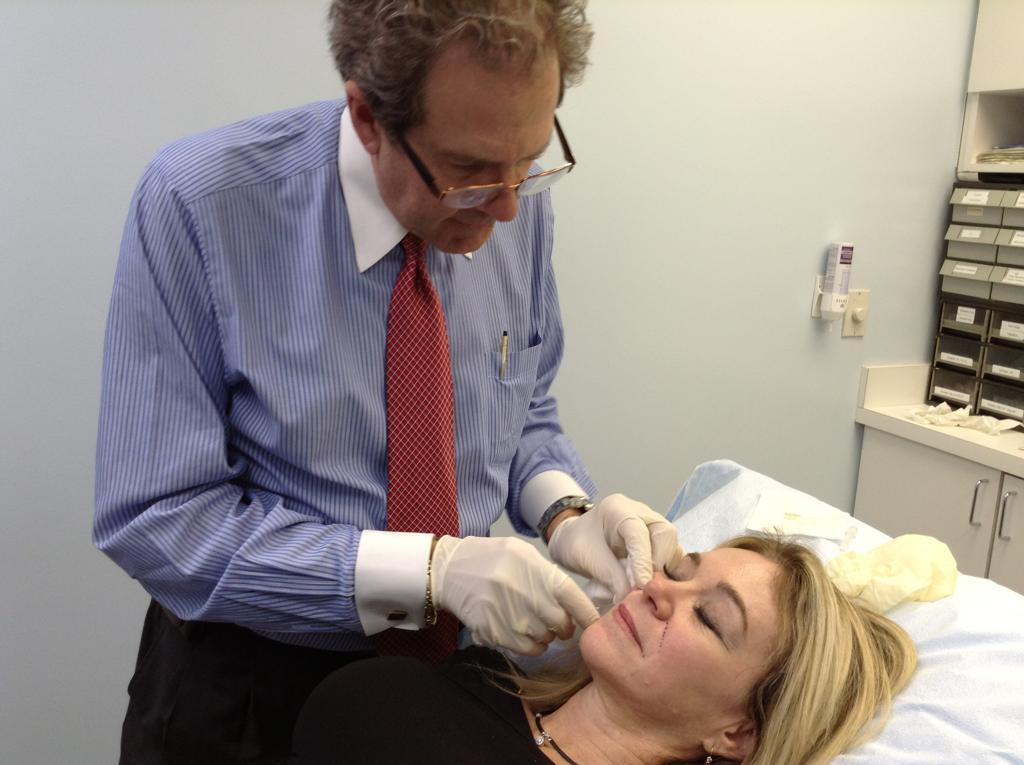face: (578, 546, 828, 698), (384, 46, 554, 256)
